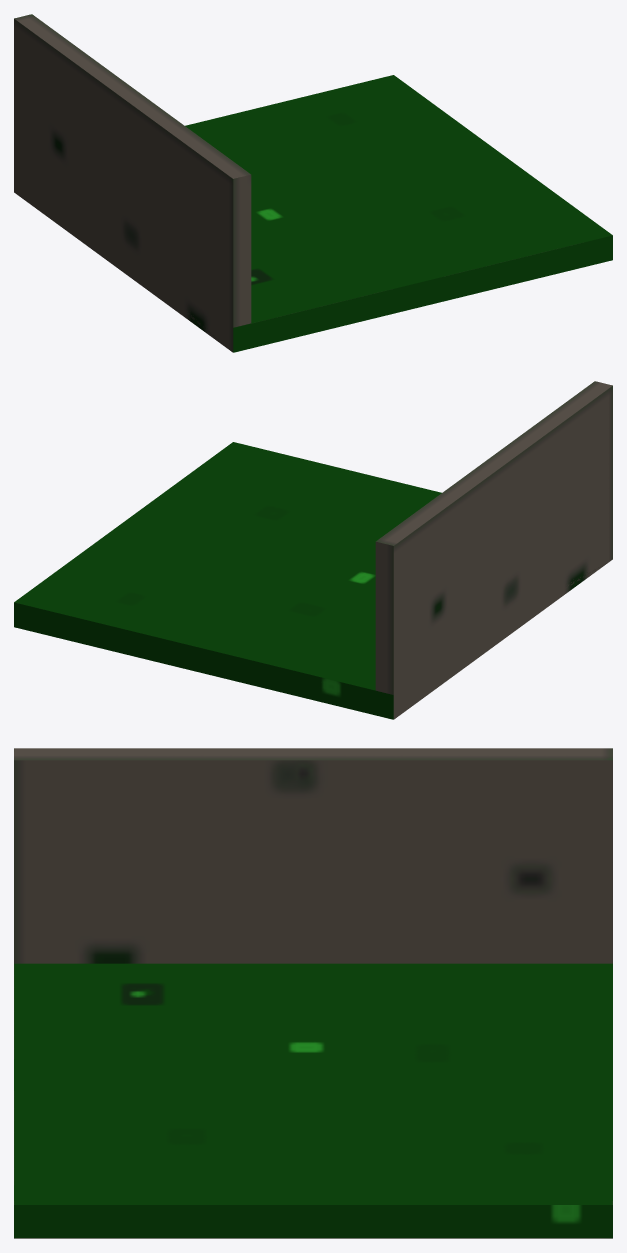
File: yard_8x8_with_wall_00.glb
The picture shows the model from 3 angles, top to bottom: view 1: azimuth 30°, elevation 25°; view 2: azimuth 150°, elevation 25°; view 3: azimuth 270°, elevation 25°; orthographic projection. The views are drawn at different scales.
Parts seen in each view (by area): view 1: yard_8x8_with_wall_00; view 2: yard_8x8_with_wall_00; view 3: yard_8x8_with_wall_00.
Part boxes in pixels (bbox=[...]): yard_8x8_with_wall_00: bbox=[14, 14, 612, 352]; yard_8x8_with_wall_00: bbox=[14, 381, 612, 719]; yard_8x8_with_wall_00: bbox=[14, 748, 612, 1238].
Size of what is drawn, in the model's own units: 8 by 3.5 by 8.
Materials: 1 (1 with a texture image).
